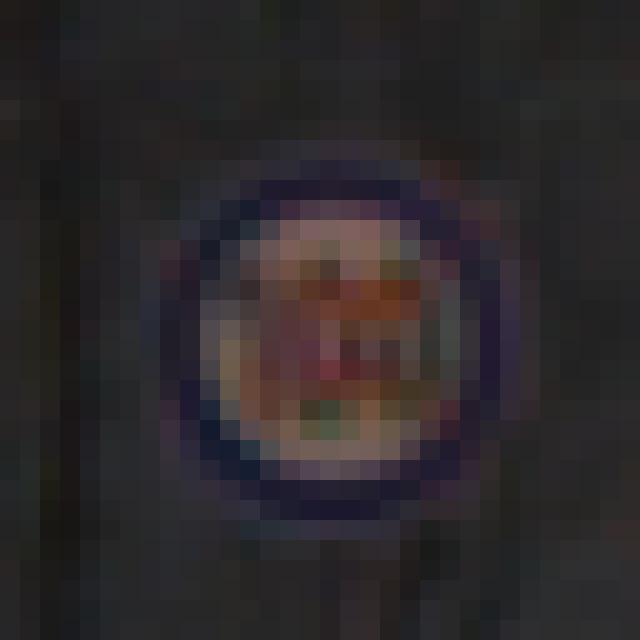SPEED LIMIT 100: (166, 177, 472, 491)
